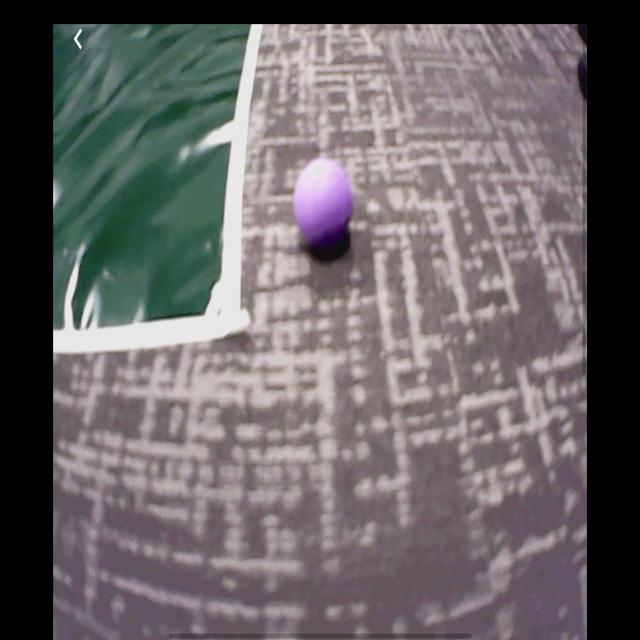ball: (293, 162, 355, 251)
